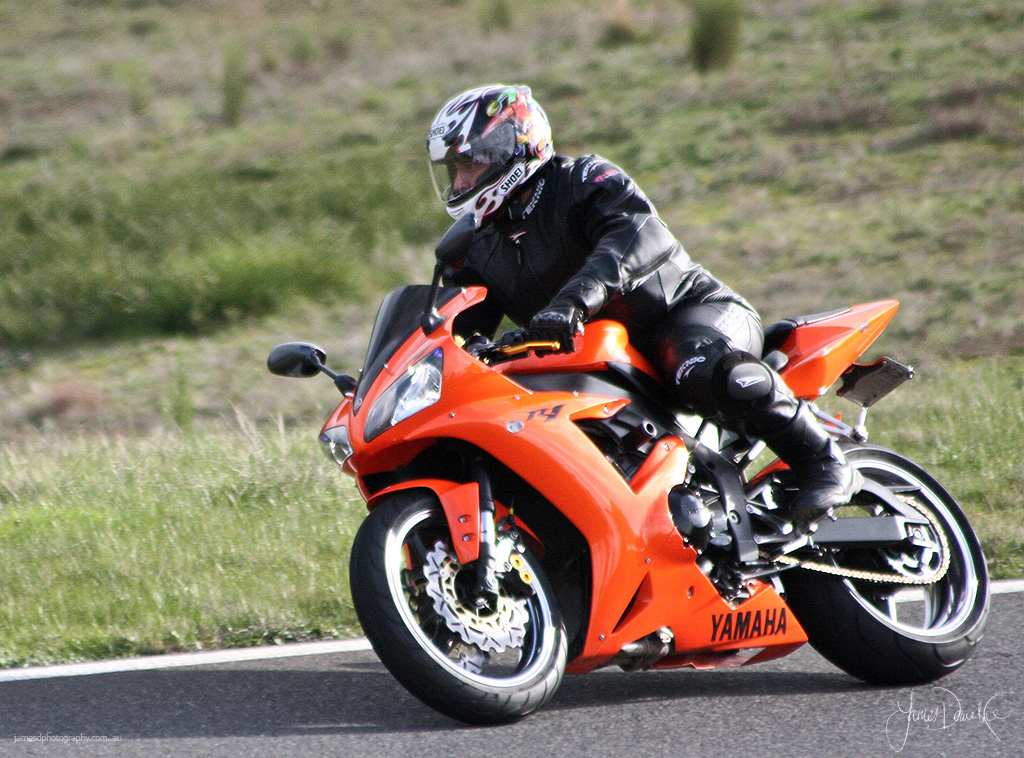helmet: (420, 94, 559, 194)
